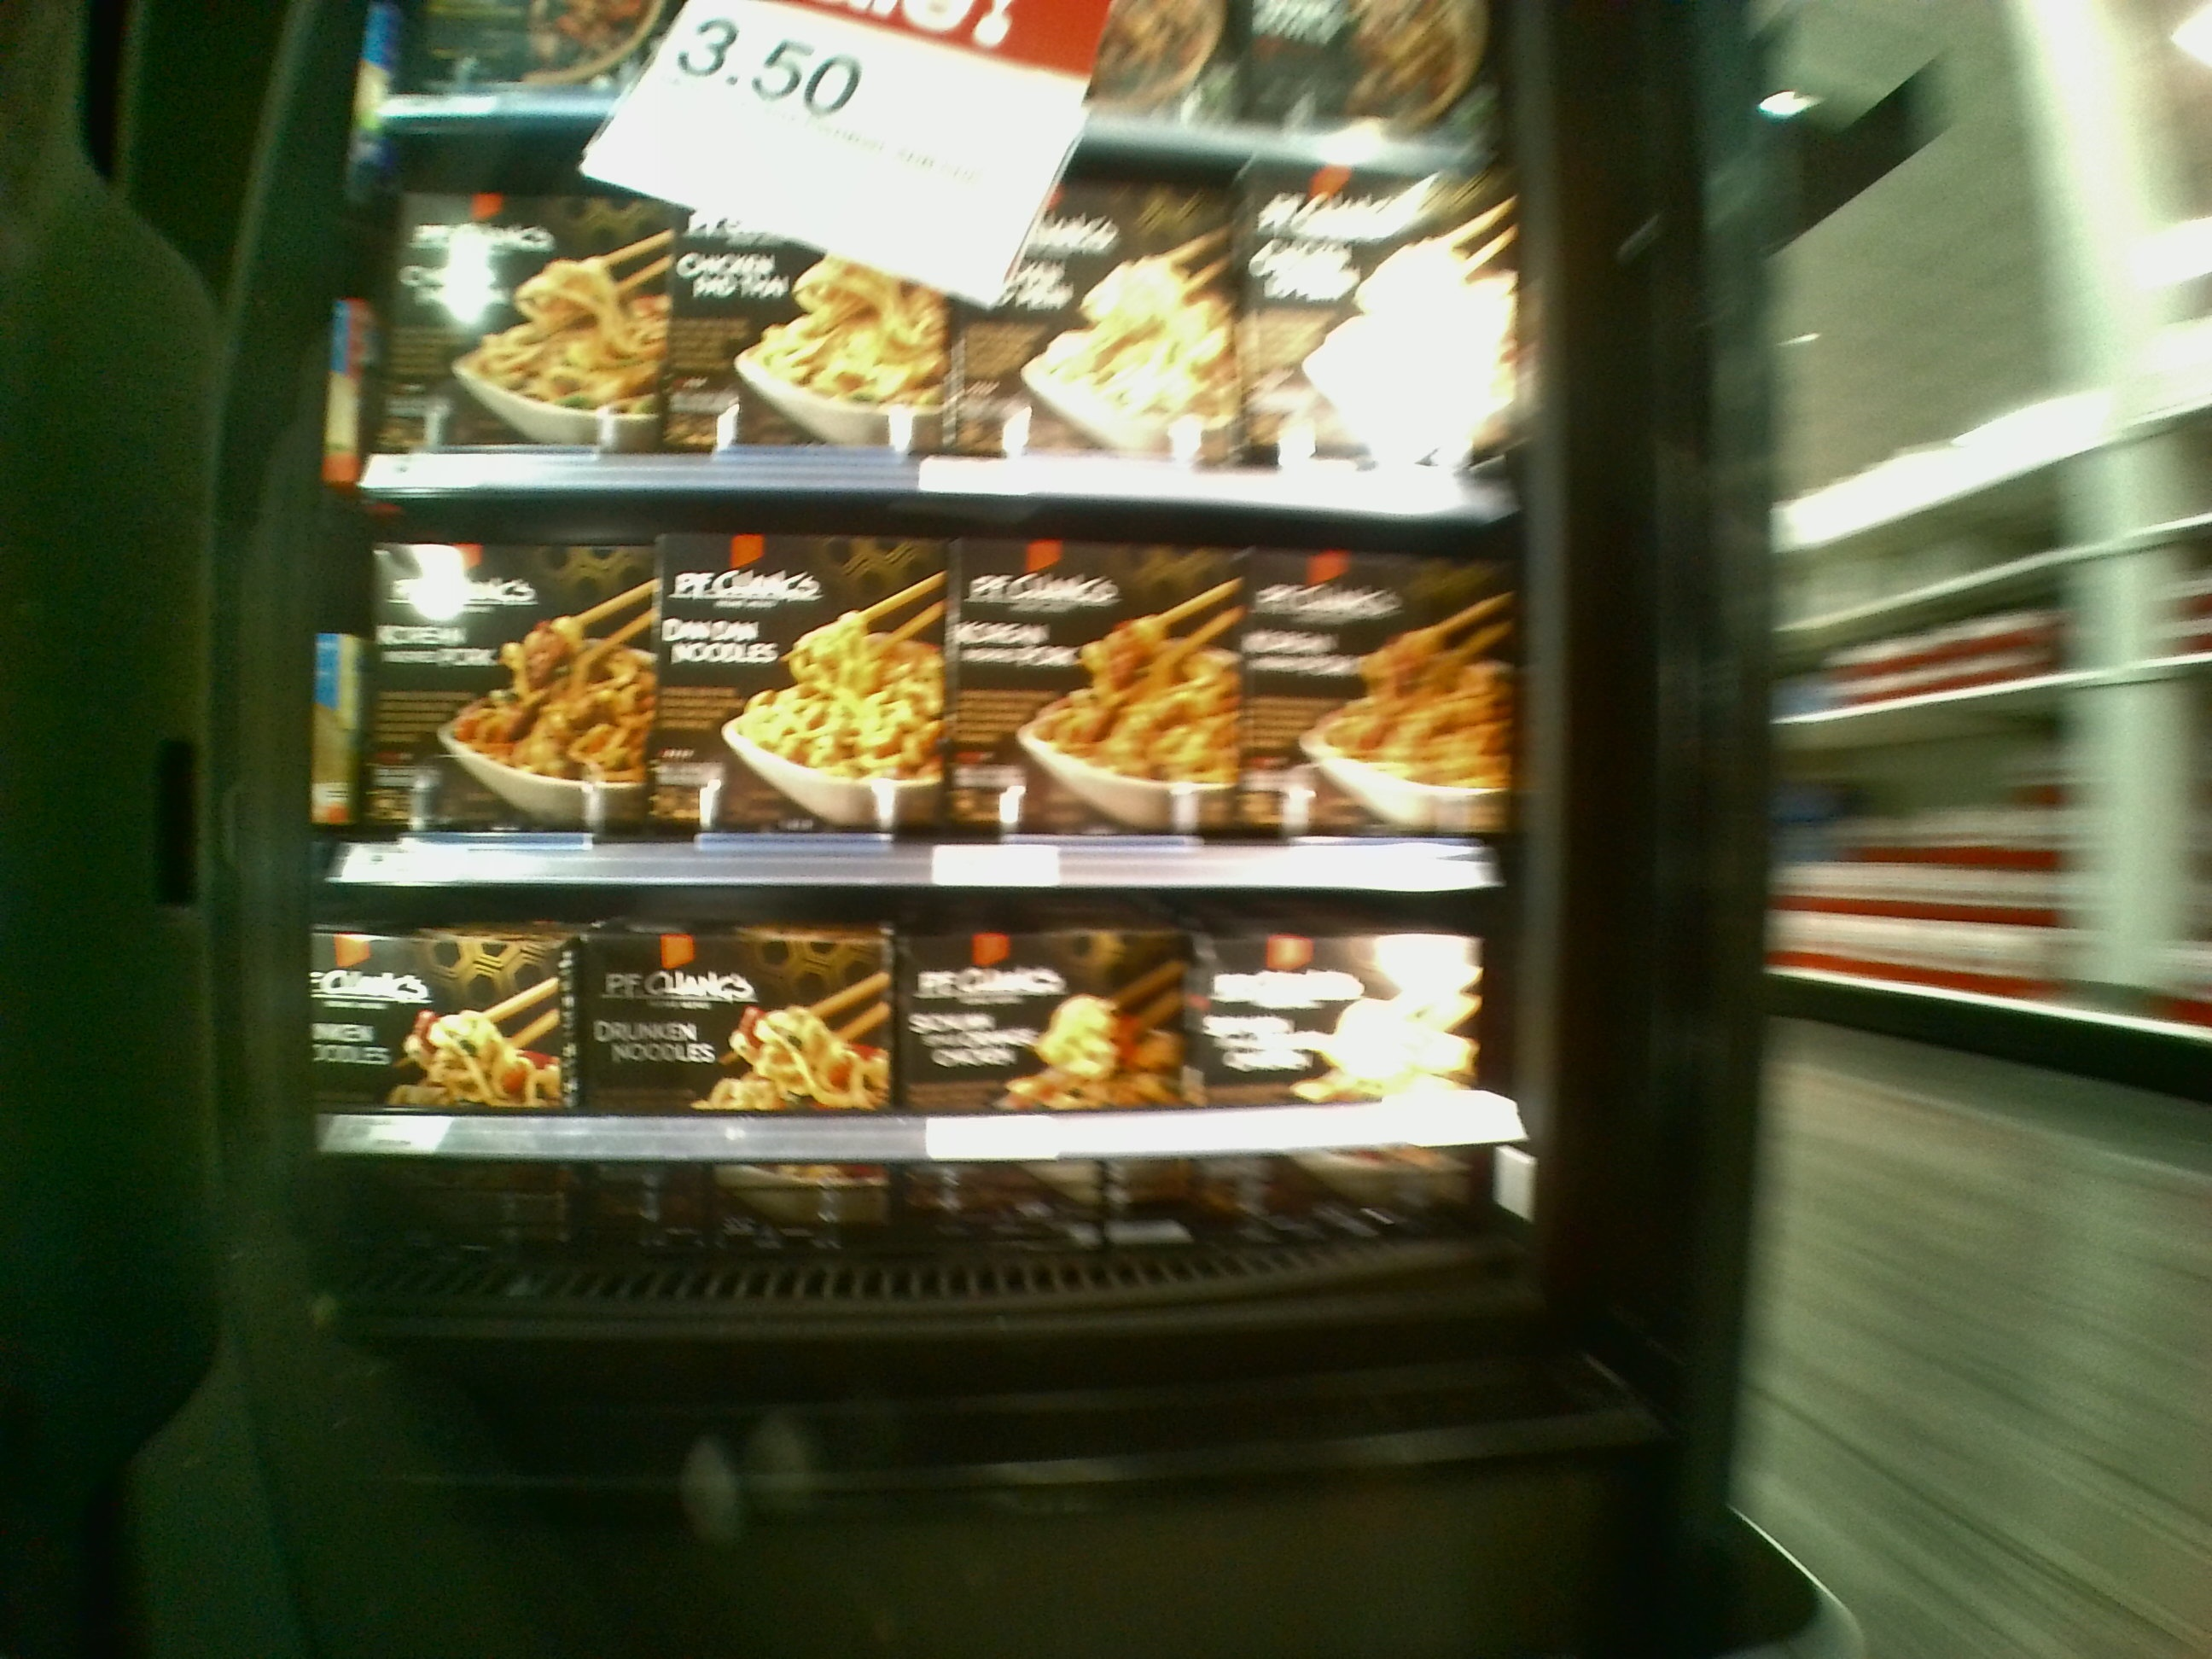shelf: (315, 892, 1538, 1328), (315, 460, 1508, 894)
